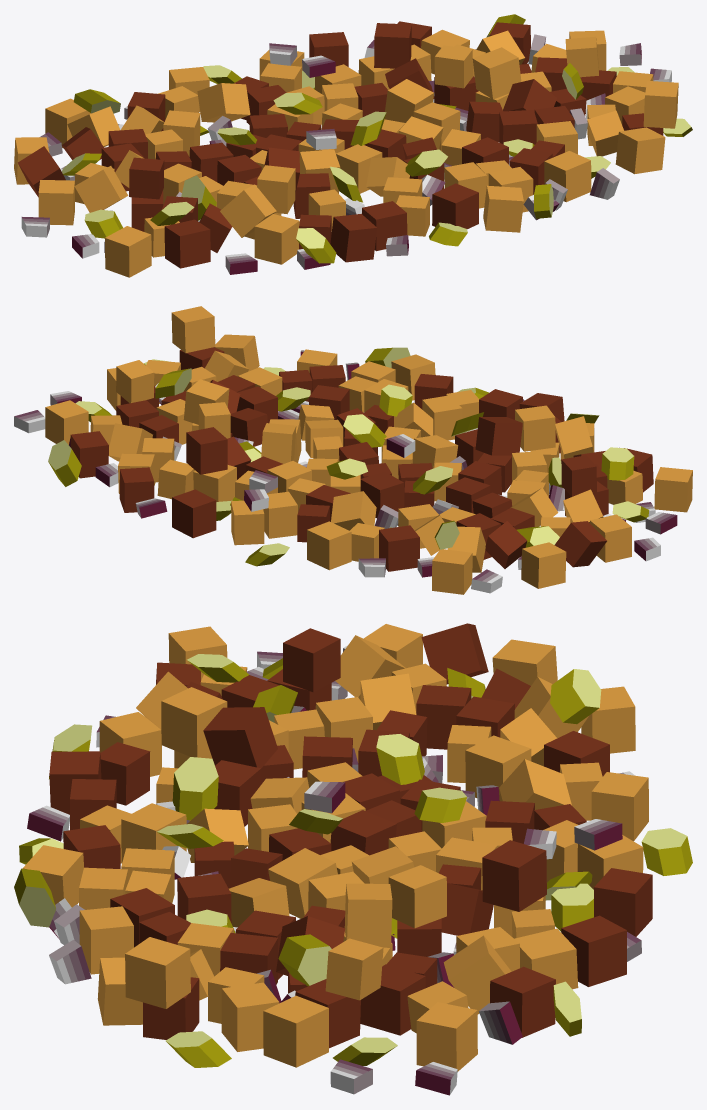
The model's file is Chicken sisig.fbx.
3 renders of one model, top to bottom at view 1: azimuth 30°, elevation 25°; view 2: azimuth 150°, elevation 25°; view 3: azimuth 270°, elevation 25°, orthographic. The views are drawn at different scales.
Visible parts, largest first — view 1: Chicken Sisig; view 2: Chicken Sisig; view 3: Chicken Sisig.
Boxes of the visible parts, box(x1,y1,x2,y2) form: Chicken Sisig: box(14, 14, 692, 277); Chicken Sisig: box(14, 306, 692, 594); Chicken Sisig: box(14, 623, 692, 1095).
Bounding box in the file's own units: 111 × 11.03 × 71.79.
